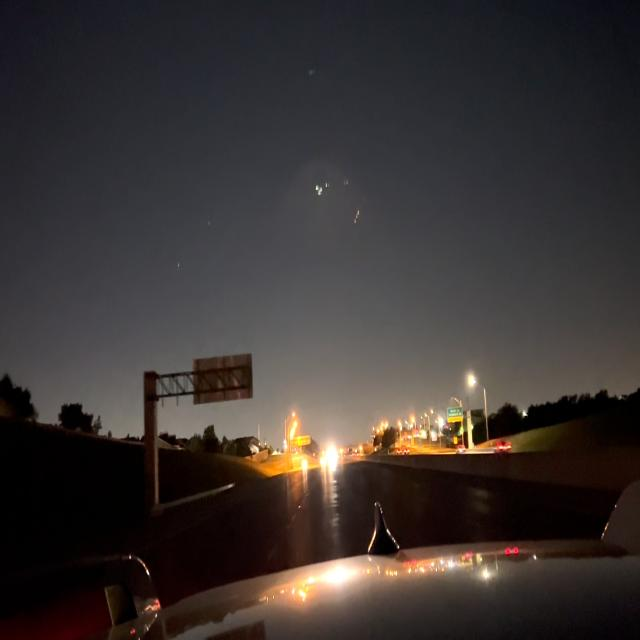back-of-sign: (192, 350, 255, 410)
